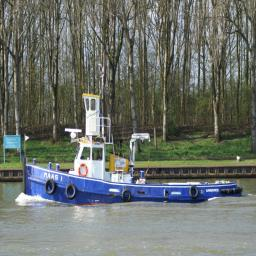tugboat: (21, 92, 246, 210)
